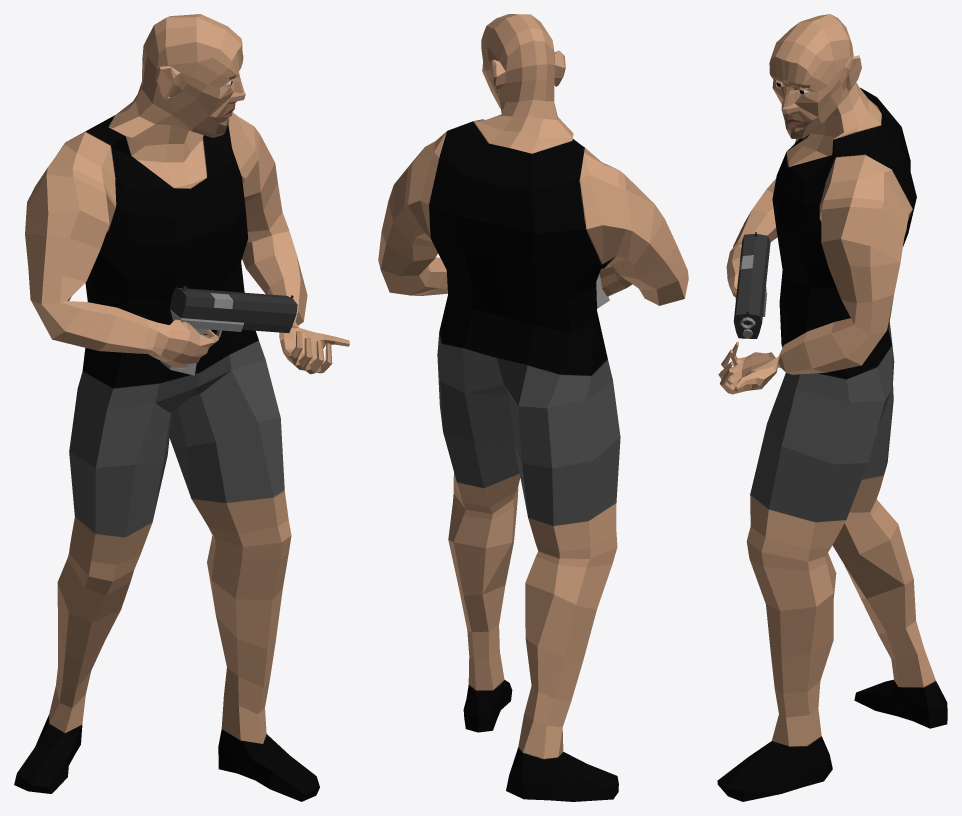
Rendered from PlayerIdle(144).obj.
3 renders of one model, left to right at view 1: azimuth 30°, elevation 25°; view 2: azimuth 150°, elevation 25°; view 3: azimuth 270°, elevation 25°, orthographic. The views are drawn at different scales.
Visible parts, largest first — view 1: Plane002, Box003; view 2: Plane002; view 3: Plane002, Box003.
Part boxes in pixels (<box>): Plane002: <box>14,14,349,801</box>; Box003: <box>160,286,297,375</box>; Plane002: <box>378,14,688,801</box>; Plane002: <box>717,14,947,801</box>; Box003: <box>733,232,770,338</box>.
Bounding box in the file's own units: 702 × 1790 × 505.
